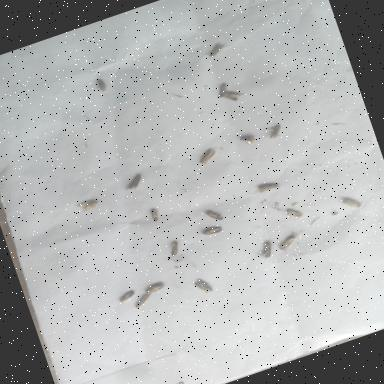pbw: (193, 144, 223, 171), (219, 84, 250, 106), (203, 39, 232, 61), (234, 130, 260, 154), (260, 122, 288, 144), (254, 177, 283, 198), (122, 172, 149, 194), (199, 220, 228, 240), (192, 274, 216, 298), (130, 290, 157, 311), (74, 196, 102, 216), (163, 238, 186, 262), (338, 192, 363, 214), (276, 234, 303, 254), (255, 238, 277, 262), (203, 204, 226, 226), (116, 286, 140, 306), (142, 280, 168, 298), (282, 204, 306, 223), (145, 203, 164, 226), (214, 79, 232, 101), (94, 74, 110, 95)
